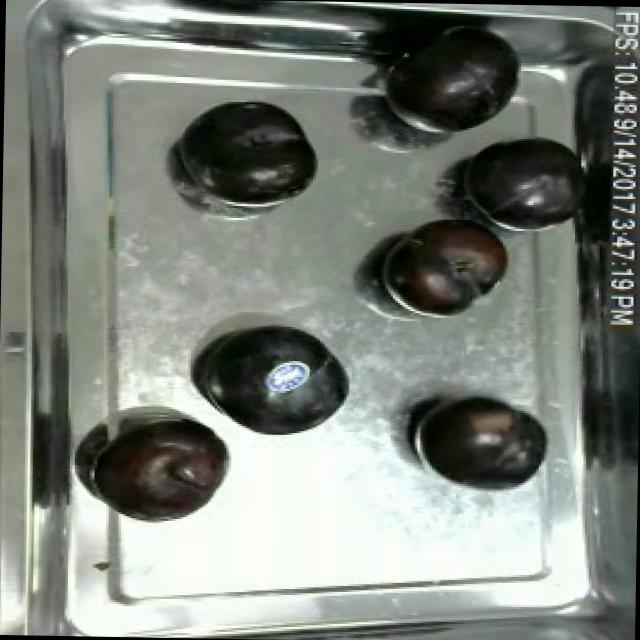Fruit: (194, 314, 355, 444), (372, 17, 534, 146), (173, 96, 327, 206), (372, 203, 518, 319), (90, 410, 234, 524), (453, 122, 589, 236), (404, 388, 550, 490)
